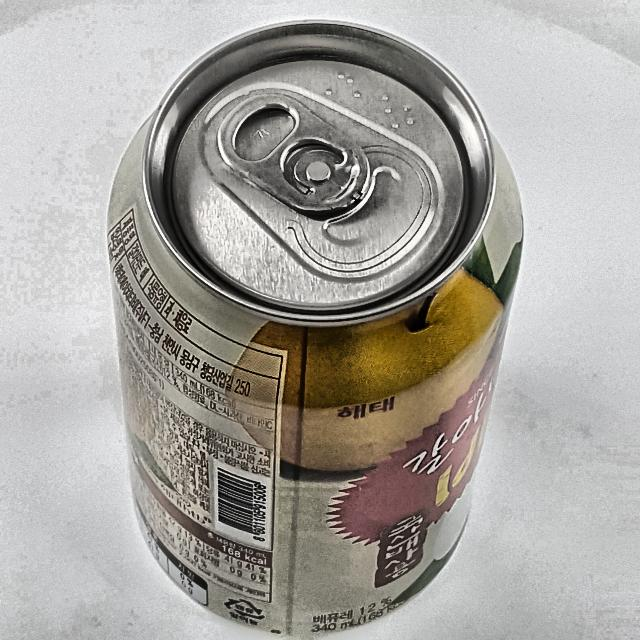galamandeunbae: (106, 17, 533, 638)
